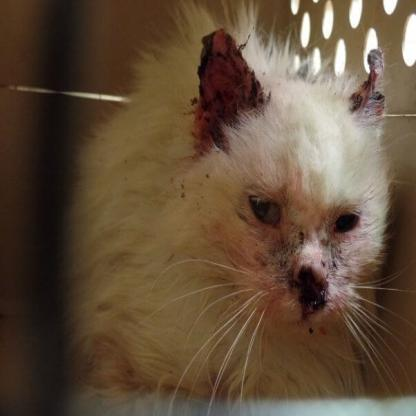cat: (67, 28, 415, 416)
injured: (185, 47, 273, 176), (352, 46, 396, 154), (285, 244, 336, 330)
